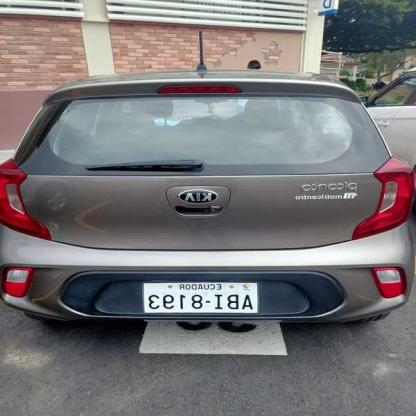Placa: (140, 279, 258, 317)
